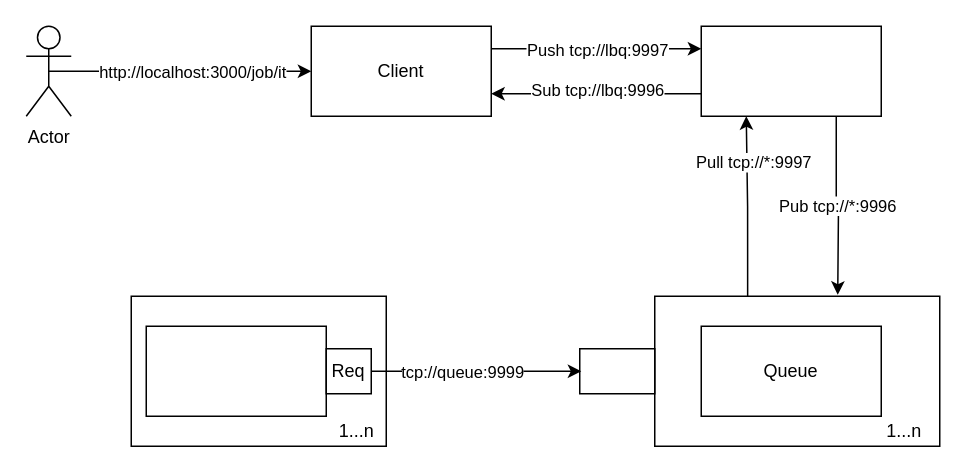
Image size: 966x473. Some labels were removed from this diagram. Here are the shapes that lost their labels. From the top down, the centre of each, then its label:
(x=790, y=70): LoadBalancerQueue
(x=235, y=370): Worker
(x=616, y=370): Router
